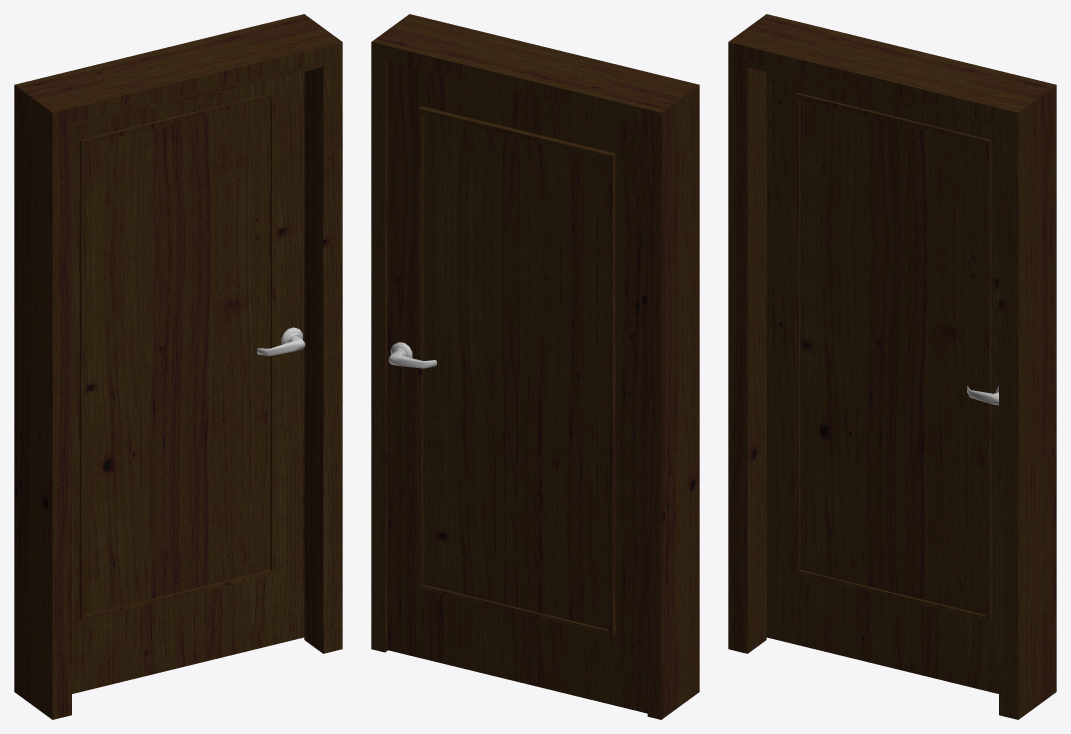
The model's file is door.glb.
The picture shows the model from 3 angles, left to right: view 1: azimuth 30°, elevation 25°; view 2: azimuth 150°, elevation 25°; view 3: azimuth 330°, elevation 25°; orthographic projection.
Parts seen in each view (by area): view 1: Handle_Front.017, DoorFrame.016; view 2: Handle_Front.017, DoorFrame.016; view 3: Handle_Front.017, DoorFrame.016.
Part boxes in pixels (<box>): Handle_Front.017: <box>72,71,305,693</box>; DoorFrame.016: <box>14,14,342,719</box>; Handle_Front.017: <box>387,60,647,713</box>; DoorFrame.016: <box>371,14,699,719</box>; Handle_Front.017: <box>766,71,998,693</box>; DoorFrame.016: <box>728,14,1056,719</box>.
Bounding box in the file's own units: 1.05 × 2.1 × 0.3037.
2 materials, 1 textured.
